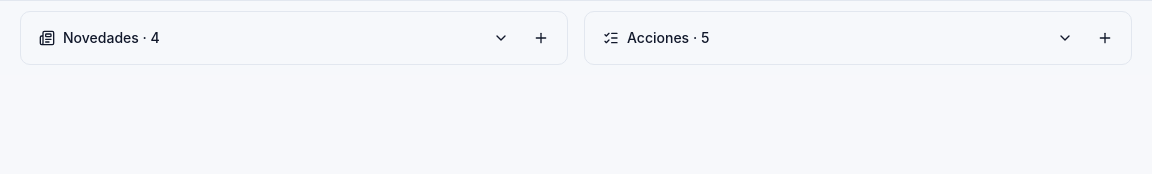
it: CasePortfolioFollowUp › loads each three-item preview only after its own disclosure opens
Click the button "Acciones · 5" at (658, 38), box [593,22,1083,54]
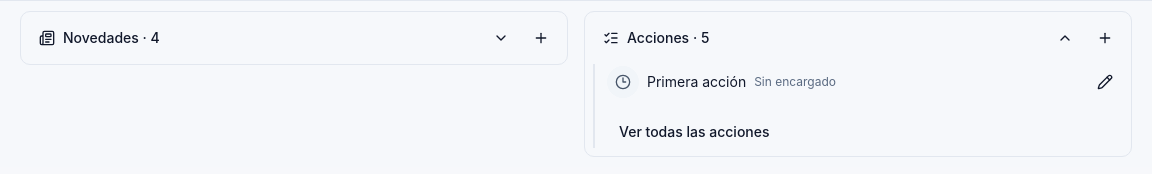
expect the text "Primera acción" is shown: met, box [647,72,746,92]
Click the button "Novedades · 4" at (101, 38), box [29,22,519,54]
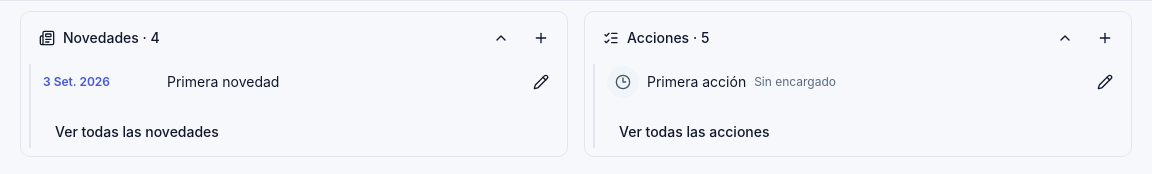
expect the text "Primera novedad" is shown: met, box [167,73,279,90]
